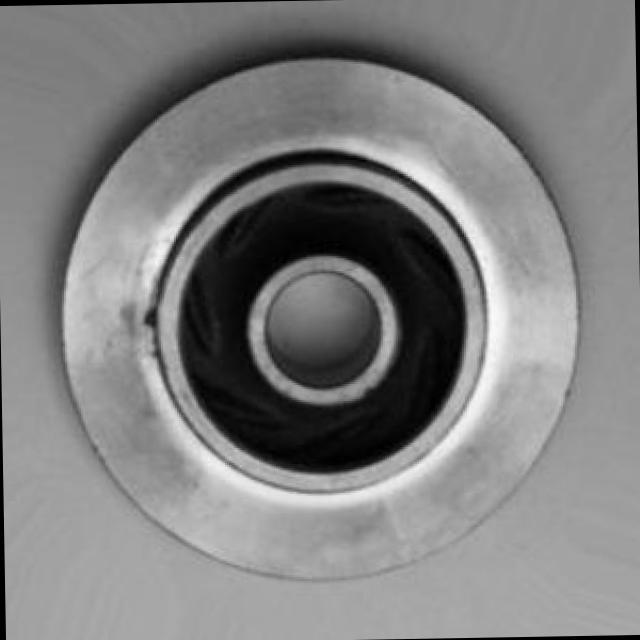Defect: (134, 301, 165, 336)
